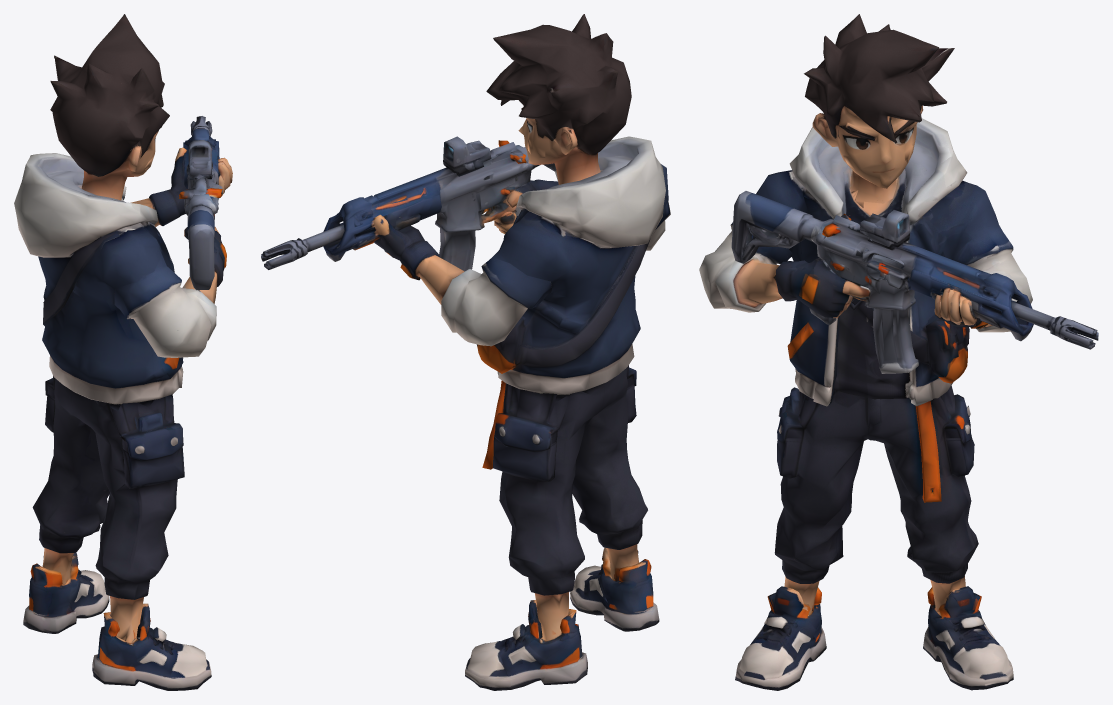
The model's file is player.glb.
3 views of the same model, side by side, from view 1: azimuth 30°, elevation 25°; view 2: azimuth 150°, elevation 25°; view 3: azimuth 270°, elevation 25° (orthographic). The views are drawn at different scales.
Visible parts, largest first — view 1: tripo_part_1, tripo_part_2, tripo_part_3, tripo_part_8, tripo_part_4, tripo_part_7, tripo_part_0, tripo_part_5, tripo_part_6; view 2: tripo_part_1, tripo_part_2, tripo_part_3, tripo_part_0, tripo_part_8, tripo_part_6, tripo_part_5, tripo_part_7, tripo_part_4; view 3: tripo_part_1, tripo_part_2, tripo_part_0, tripo_part_3, tripo_part_4, tripo_part_8, tripo_part_7, tripo_part_5, tripo_part_6.
Boxes of the visible parts, x1,y1,x2,y2 form: tripo_part_1: [32, 376, 184, 642]; tripo_part_2: [38, 184, 183, 411]; tripo_part_3: [50, 14, 169, 200]; tripo_part_8: [14, 153, 157, 257]; tripo_part_4: [114, 227, 226, 357]; tripo_part_7: [92, 603, 211, 690]; tripo_part_0: [179, 116, 222, 290]; tripo_part_5: [23, 552, 109, 633]; tripo_part_6: [130, 147, 232, 226]; tripo_part_1: [482, 365, 647, 640]; tripo_part_2: [477, 164, 668, 402]; tripo_part_3: [486, 14, 631, 184]; tripo_part_0: [261, 136, 556, 271]; tripo_part_8: [516, 136, 665, 247]; tripo_part_6: [366, 214, 551, 346]; tripo_part_5: [465, 600, 587, 690]; tripo_part_7: [570, 547, 659, 631]; tripo_part_4: [480, 179, 670, 250]; tripo_part_1: [774, 385, 978, 615]; tripo_part_2: [756, 168, 998, 406]; tripo_part_0: [731, 191, 1098, 373]; tripo_part_3: [804, 14, 954, 207]; tripo_part_4: [699, 222, 871, 318]; tripo_part_8: [789, 118, 967, 225]; tripo_part_7: [735, 586, 826, 690]; tripo_part_5: [923, 586, 1013, 690]; tripo_part_6: [934, 225, 1032, 332].
Bounding box in the file's own units: 0.4832 × 0.9803 × 0.5498.
Materials: 10 (10 with a texture image).
